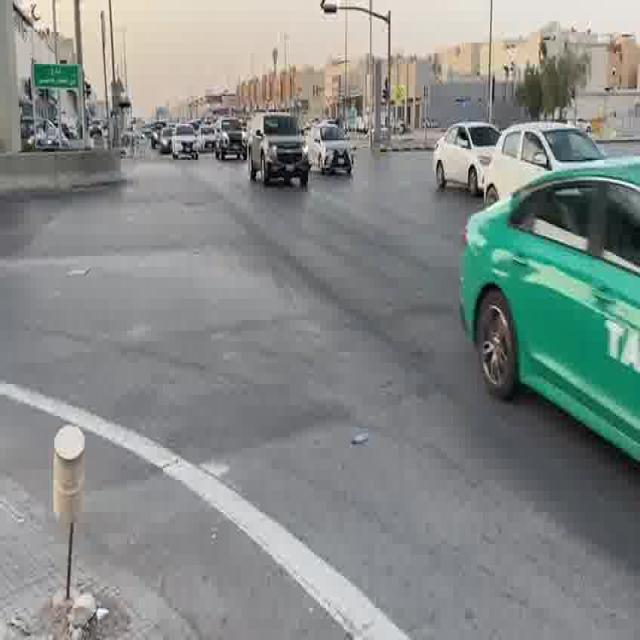bus: (456, 145, 639, 527), (484, 123, 611, 203), (431, 122, 502, 198), (248, 113, 310, 187), (310, 120, 350, 176), (215, 119, 246, 160), (170, 125, 200, 159), (156, 125, 186, 158), (37, 126, 71, 150), (156, 127, 174, 154), (202, 128, 220, 150)
car: (179, 209, 640, 640), (456, 145, 639, 527), (484, 123, 611, 203), (431, 122, 502, 198), (248, 113, 310, 187), (310, 120, 350, 176), (215, 119, 246, 160), (170, 125, 200, 159), (156, 125, 186, 158), (37, 126, 71, 150), (156, 127, 174, 154), (202, 128, 220, 150)
lanes: (179, 209, 640, 640), (226, 209, 639, 634)
lanes2: (226, 209, 639, 634), (260, 205, 640, 474)
lanes3: (260, 205, 640, 474), (286, 201, 640, 404)
lanes4: (286, 201, 640, 404), (327, 192, 640, 313)
lanes5: (327, 192, 640, 313)
